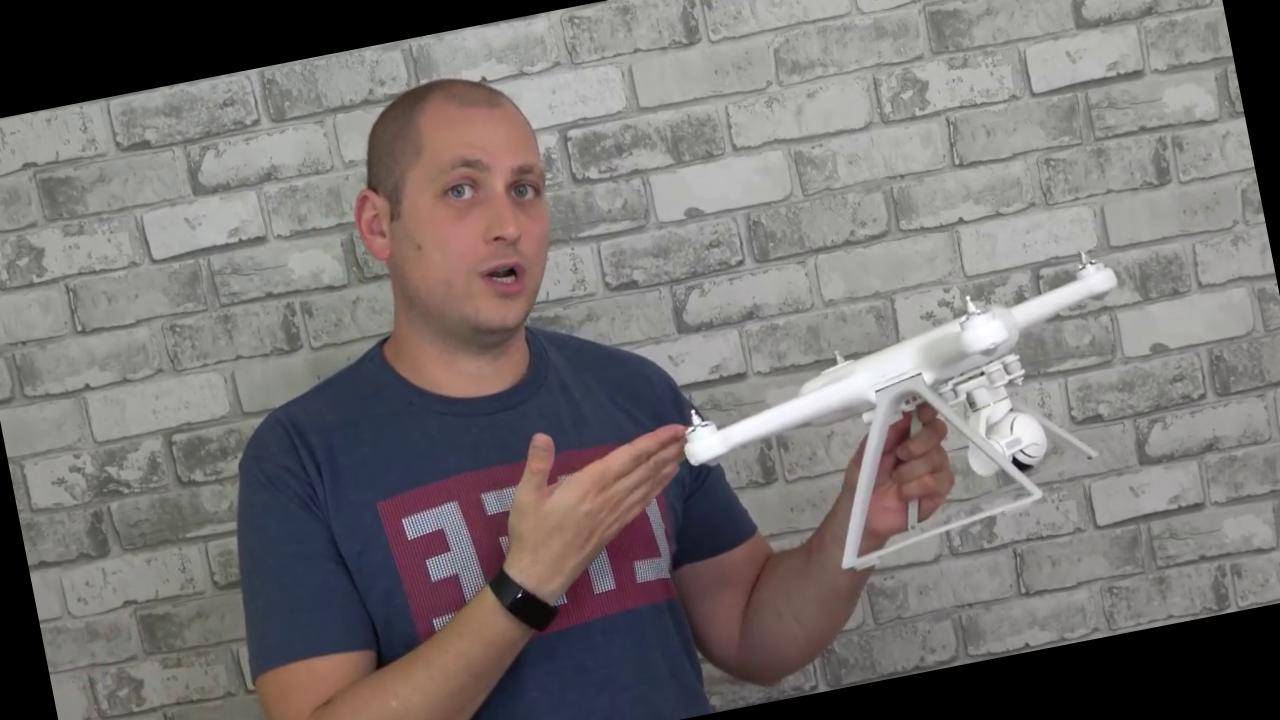drone: (641, 243, 1154, 491)
